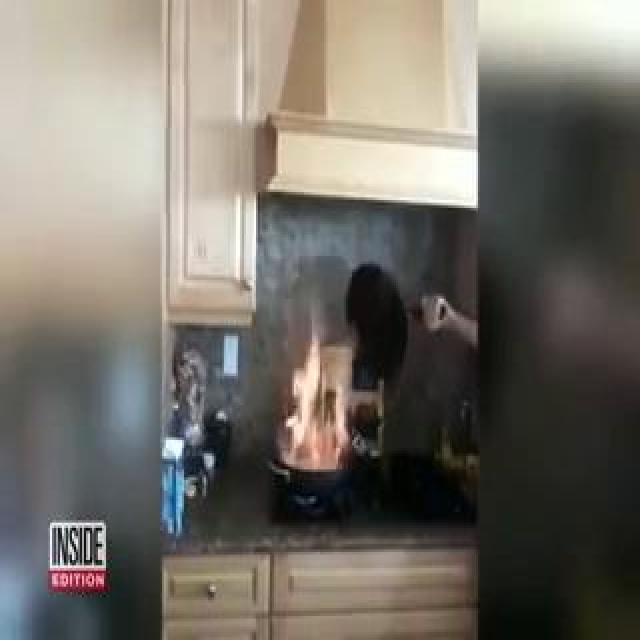Fire: (276, 249, 368, 476)
